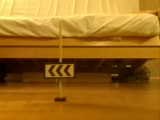left: (44, 63, 76, 77)
